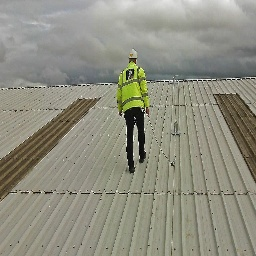helmet: (127, 47, 139, 61)
person: (116, 46, 151, 175)
vest: (120, 62, 148, 120)
